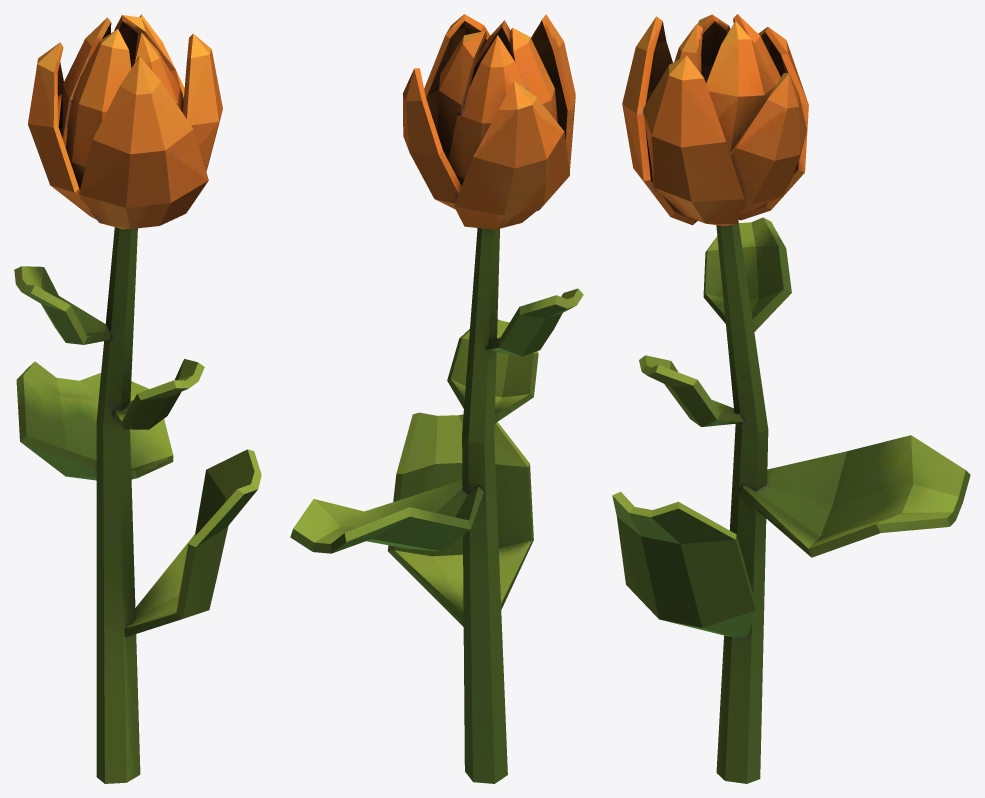
File: ciFymz3YR9I.glb
The picture shows the model from 3 angles, left to right: view 1: azimuth 30°, elevation 25°; view 2: azimuth 150°, elevation 25°; view 3: azimuth 270°, elevation 25°; orthographic projection. The views are drawn at different scales.
Parts seen in each view (by area): view 1: tulip; view 2: tulip; view 3: tulip.
Part boxes in pixels (bbox=[...]): tulip: bbox=[14, 14, 261, 783]; tulip: bbox=[290, 14, 583, 783]; tulip: bbox=[612, 14, 970, 783].
Size of the model in its own units: 0.281 by 1 by 0.428.
1 material, 1 textured.
